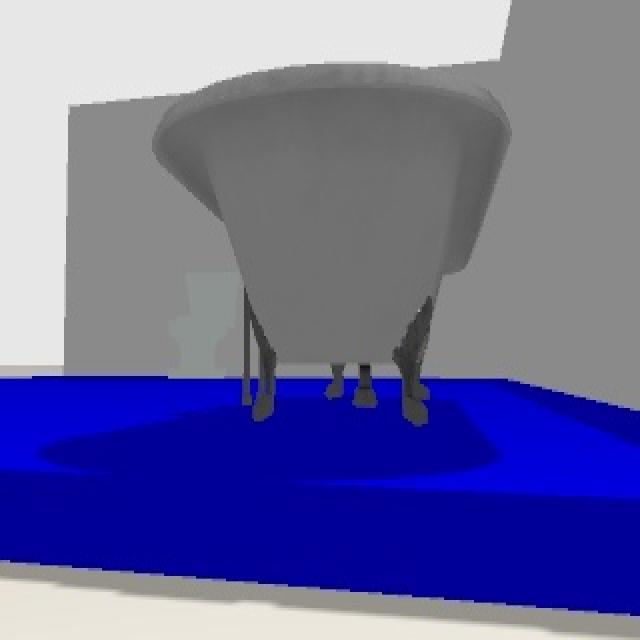bathtub: (150, 61, 512, 427)
